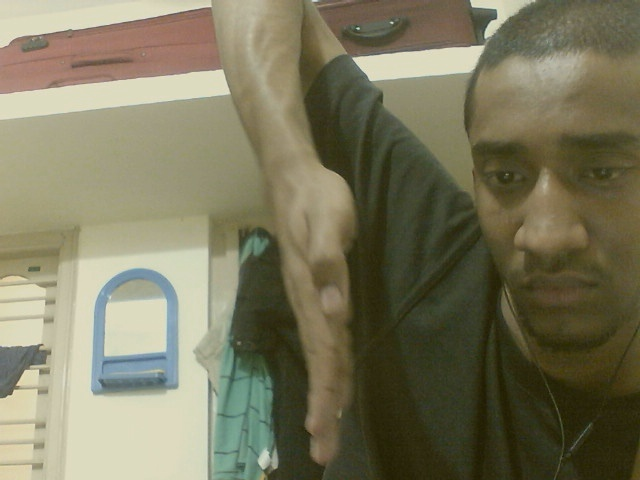hand: (270, 166, 362, 471)
